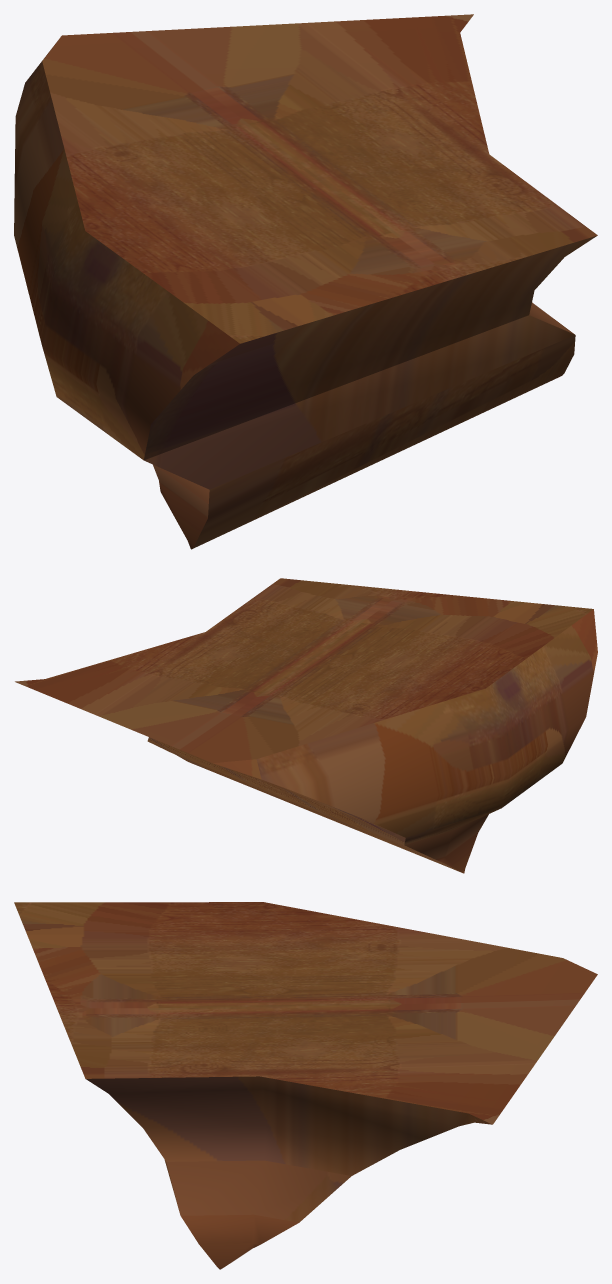
Rendered from brokebottle2-1.fbx.
3 views of the same model, one above another, from view 1: azimuth 30°, elevation 25°; view 2: azimuth 150°, elevation 25°; view 3: azimuth 270°, elevation 25° (orthographic). The views are drawn at different scales.
Parts seen in each view (by area): view 1: polySurface4; view 2: polySurface4; view 3: polySurface4.
Boxes of the visible parts, x1,y1,x2,y2 form: polySurface4: [14, 14, 597, 549]; polySurface4: [15, 578, 597, 873]; polySurface4: [14, 902, 597, 1269].
Bounding box in the file's own units: 12.8 × 6.61 × 14.04.
